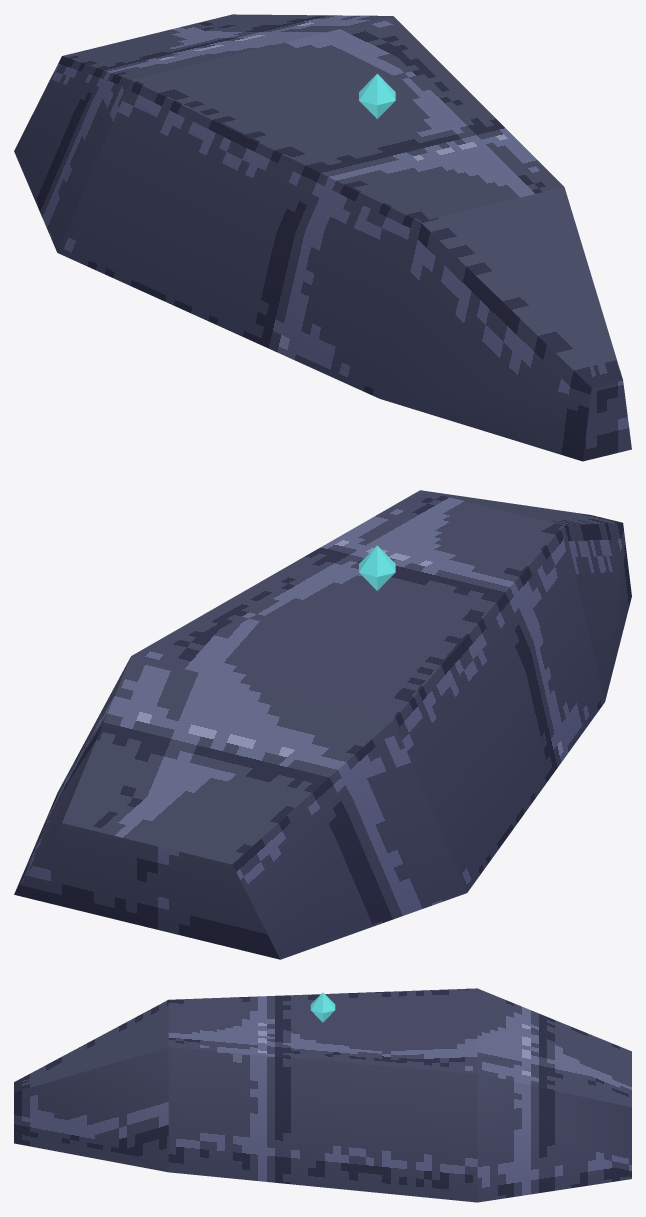
File: cysky.shuttle.glb
3 renders of one model, top to bottom at view 1: azimuth 30°, elevation 25°; view 2: azimuth 150°, elevation 25°; view 3: azimuth 270°, elevation 25°, orthographic. The views are drawn at different scales.
Visible parts, largest first — view 1: kit_body, kit_beacons; view 2: kit_body, kit_beacons; view 3: kit_body, kit_beacons.
Boxes of the visible parts, x1,y1,x2,y2 form: kit_body: (14,14,631,461); kit_beacons: (359,73,395,118); kit_body: (14,490,631,959); kit_beacons: (359,545,395,590); kit_body: (14,988,631,1202); kit_beacons: (310,992,335,1022).
Bounding box in the file's own units: 1.8 × 0.896 × 3.5.
Materials: 2 (2 with a texture image).
